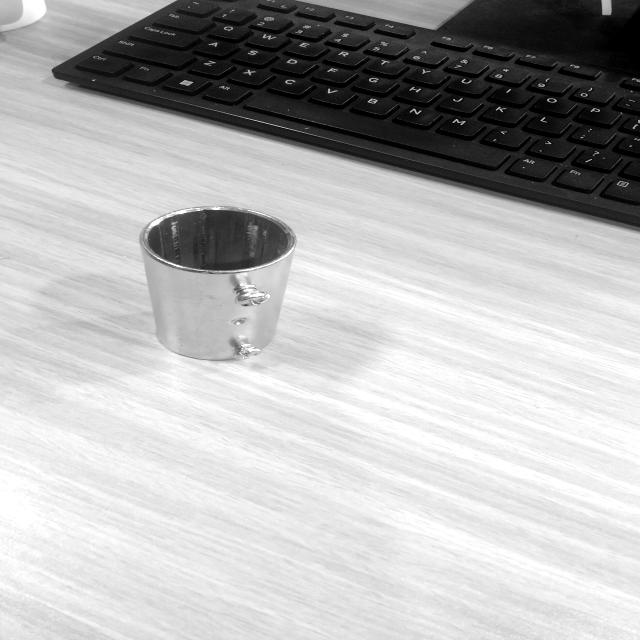Co_Lon: (118, 189, 301, 374)
